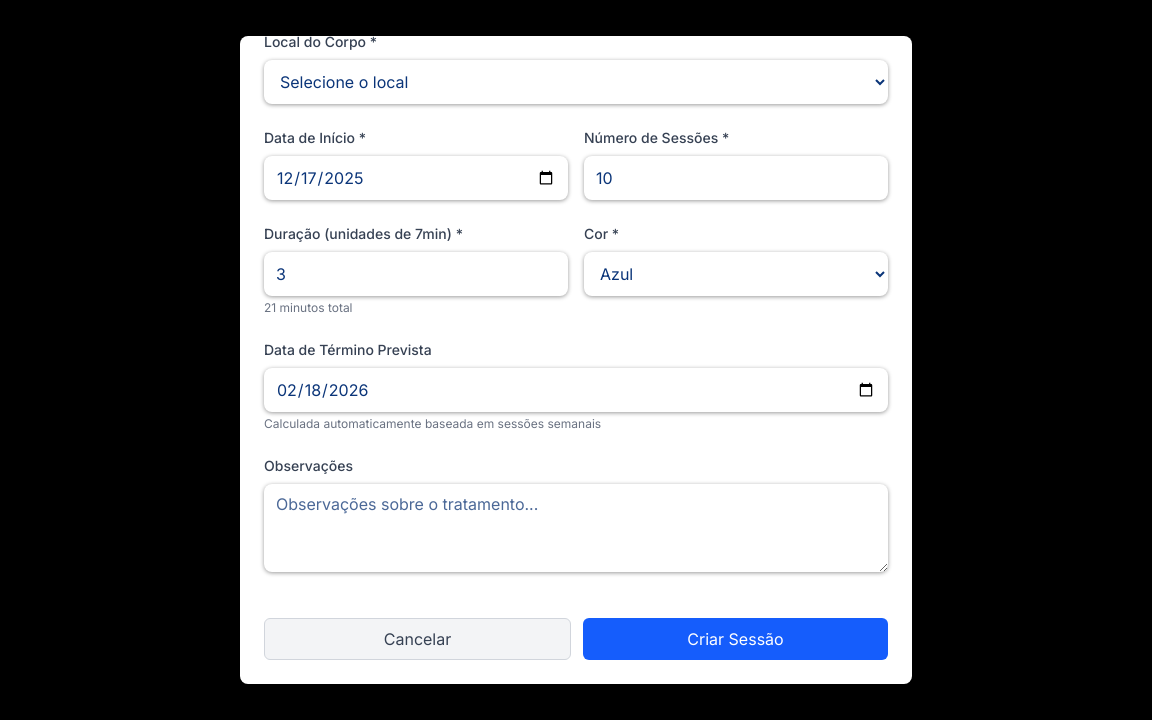
Test: CreateTreatmentSessionModal › displays validation errors for required fields
This screenshot has width=1152, height=720.
(page scrolled)
Click the button "Criar Sessão" at (736, 639), box [583,618,888,660]
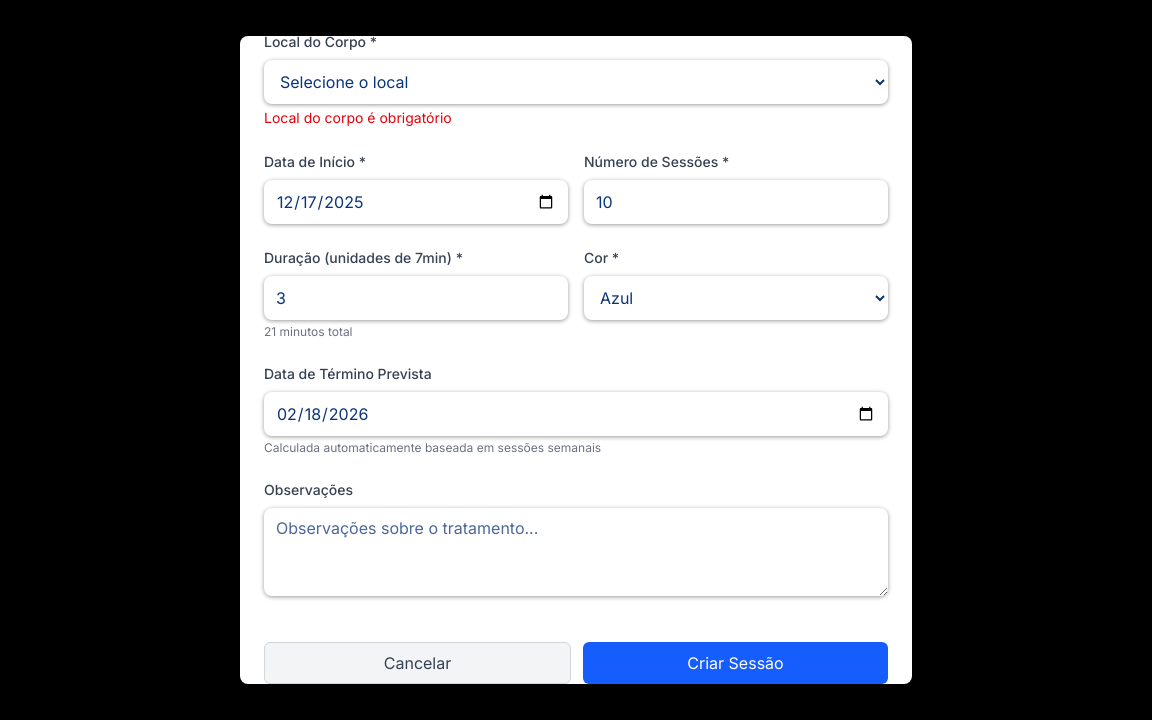
Expected: the text "Local do corpo é obrigatório" is shown, [264,109,452,126]
